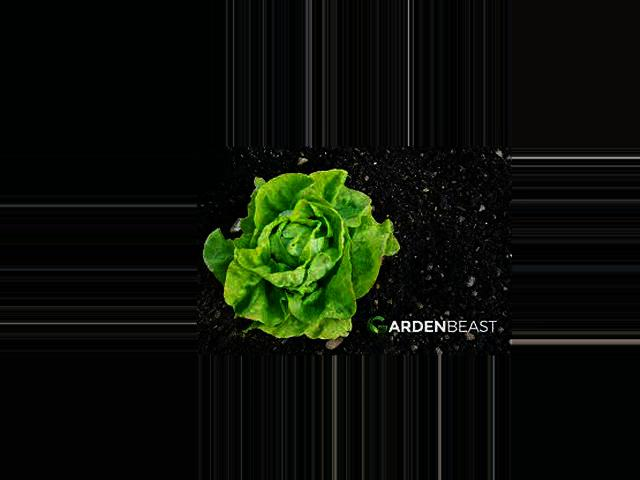lettuce: (234, 178, 375, 336)
